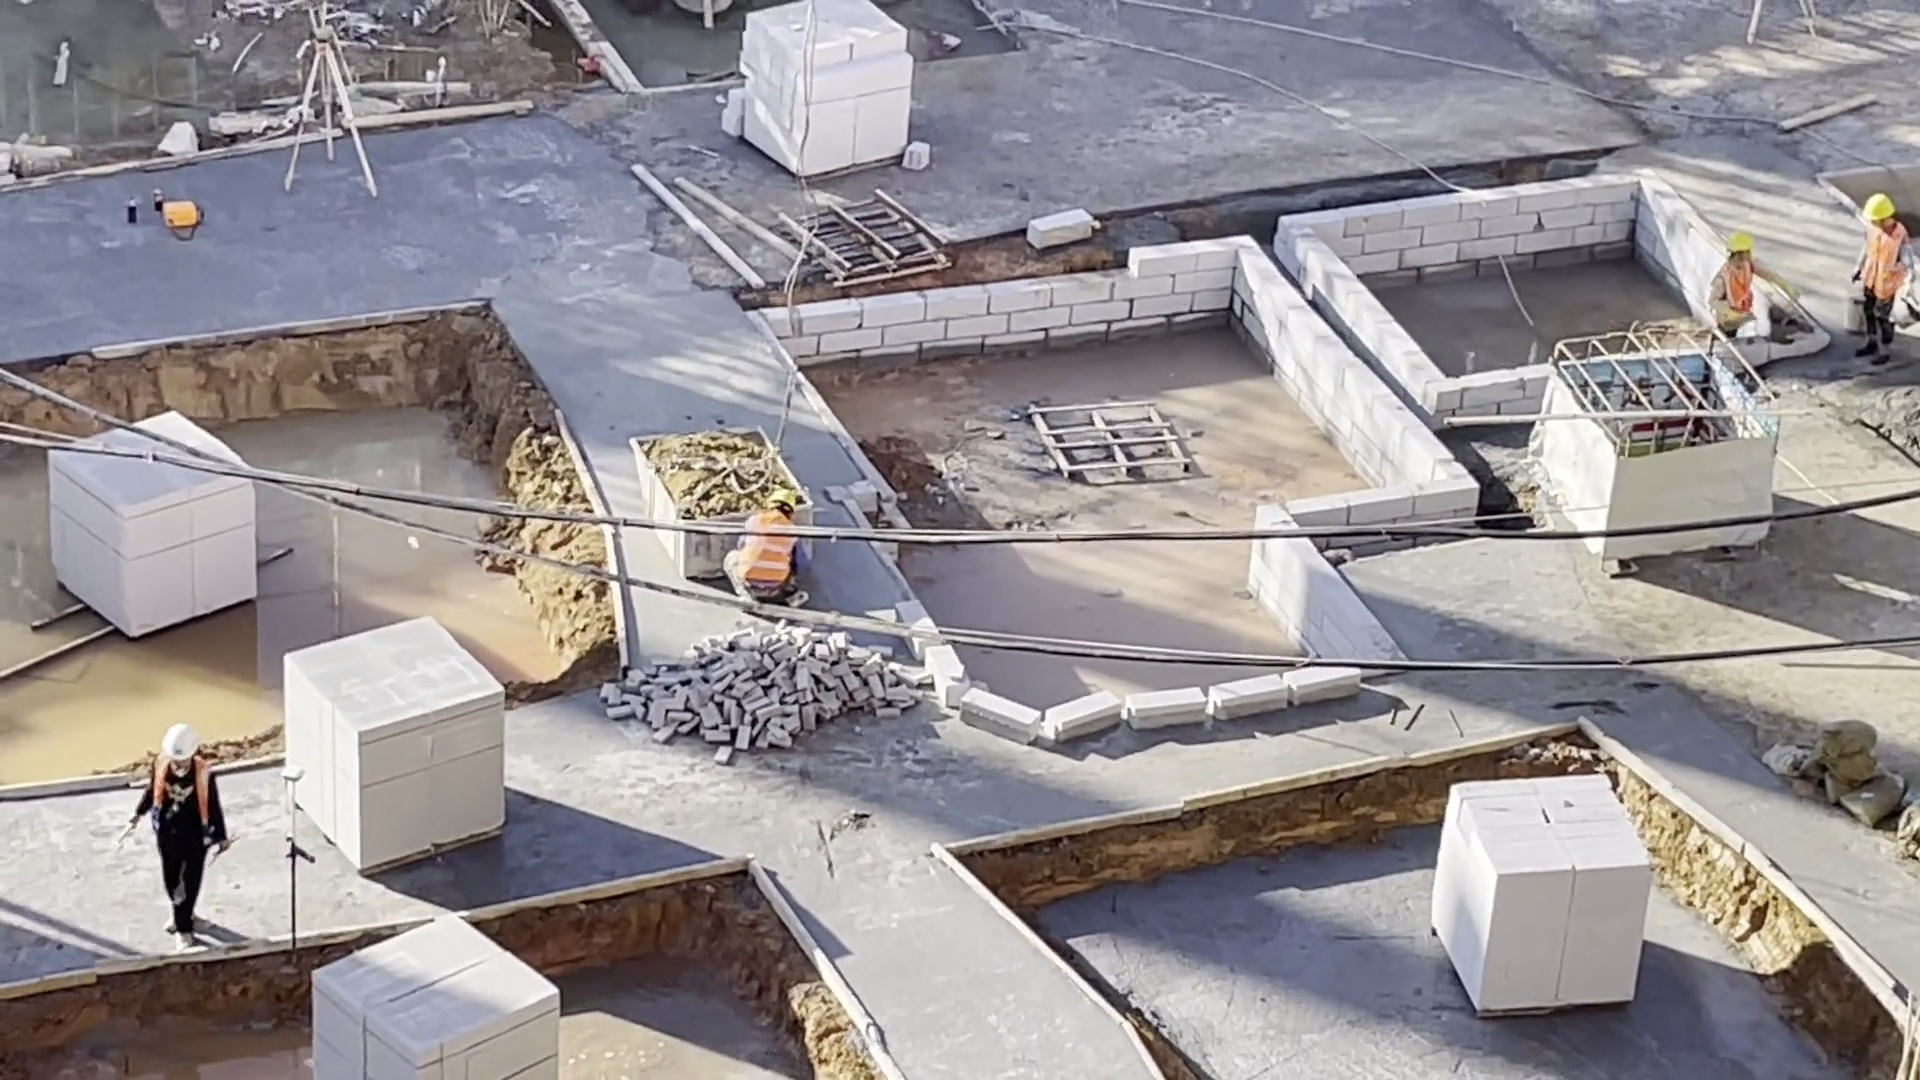brick: (280, 608, 505, 878), (1430, 768, 1654, 1026), (293, 911, 567, 1080), (45, 480, 258, 639), (732, 6, 917, 182)
helmet: (158, 724, 206, 759), (1860, 192, 1896, 222), (1724, 229, 1757, 254), (767, 486, 795, 511)
hopper: (625, 430, 724, 523)
person: (111, 720, 240, 954), (722, 486, 814, 606), (1708, 228, 1803, 342), (1853, 191, 1913, 367)
vest: (149, 760, 215, 839), (1863, 223, 1911, 299), (735, 534, 797, 586), (1719, 264, 1755, 313)
